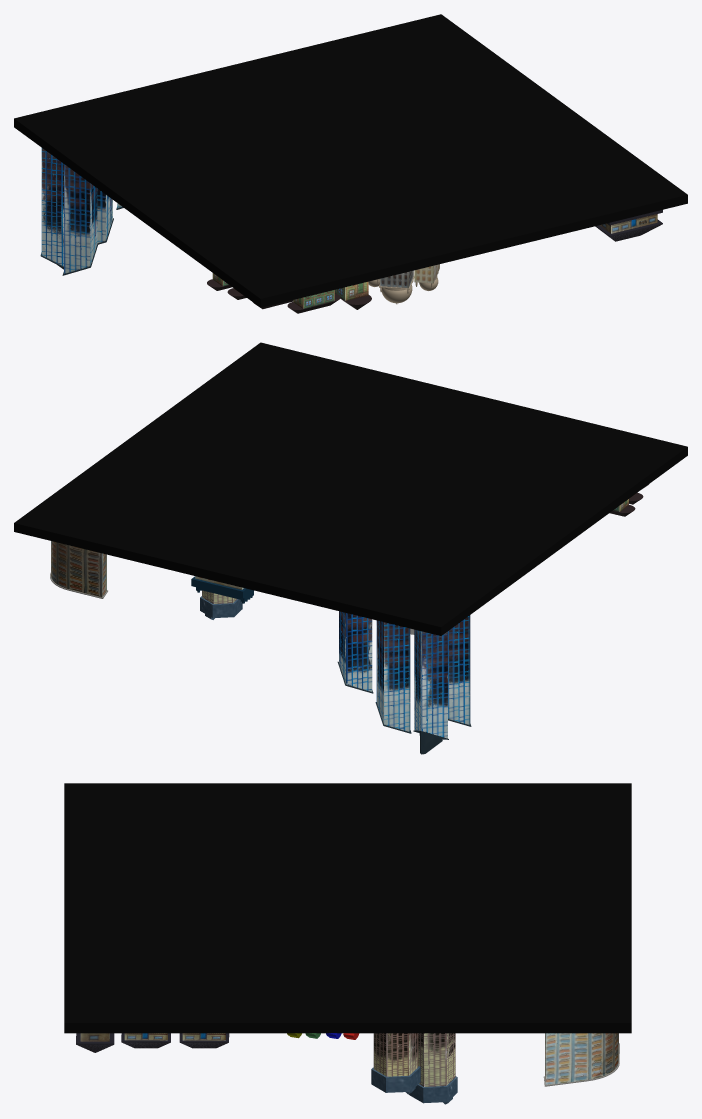
File: full-board.glb
The picture shows the model from 3 angles, top to bottom: view 1: azimuth 30°, elevation 25°; view 2: azimuth 150°, elevation 25°; view 3: azimuth 270°, elevation 25°; orthographic projection. The views are drawn at different scales.
Visible parts, largest first — view 1: board, President-3, President-1, Safari-1, TajMahal-1, President-2, Waikiki-2, Waikiki-1, TajMahal-3; view 2: board, President-1, President-2, Boomerang, President-4, President-3, Fujiyama-1, cityHall; view 3: board, Boomerang, Fujiyama-2, Fujiyama-1, Safari-3, Safari-2, Safari-1.
Boxes of the visible parts, box(x1,y1,x2,y2) form: board: box(14, 14, 687, 307); President-3: box(62, 164, 98, 275); President-1: box(40, 148, 63, 269); Safari-1: box(595, 210, 662, 241); TajMahal-1: box(379, 270, 414, 304); President-2: box(97, 188, 113, 244); Waikiki-2: box(287, 290, 340, 313); Waikiki-1: box(335, 281, 371, 309); TajMahal-3: box(414, 264, 439, 290); board: box(14, 342, 687, 635); President-1: box(413, 629, 448, 754); President-2: box(375, 620, 411, 733); Boomerang: box(50, 541, 107, 598); President-4: box(337, 611, 373, 693); President-3: box(448, 615, 471, 726); Fujiyama-1: box(200, 590, 242, 619); cityHall: box(191, 576, 253, 603); board: box(64, 783, 631, 1033); Boomerang: box(543, 1033, 619, 1086); Fujiyama-2: box(371, 1033, 420, 1093); Fujiyama-1: box(408, 1033, 457, 1104); Safari-3: box(179, 1033, 229, 1048); Safari-2: box(121, 1033, 170, 1048); Safari-1: box(76, 1033, 114, 1052).
Size of the model in its own units: 512 by 157 by 600.
70 materials, 58 textured.
